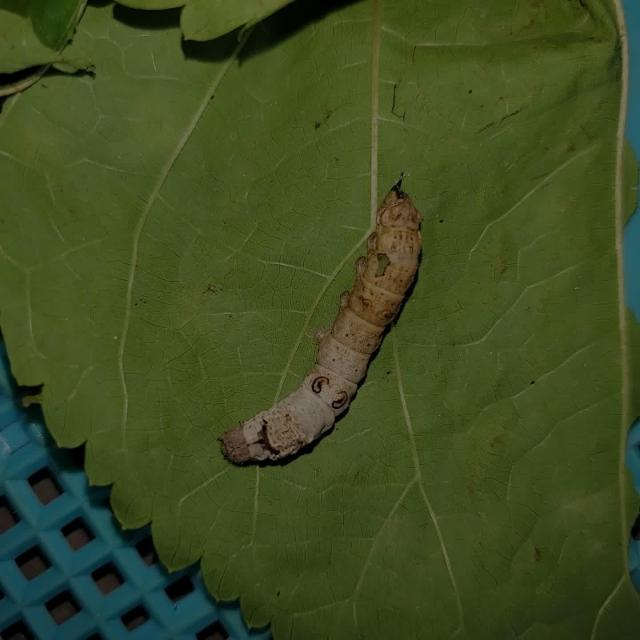Grasserie: (197, 159, 477, 508)
